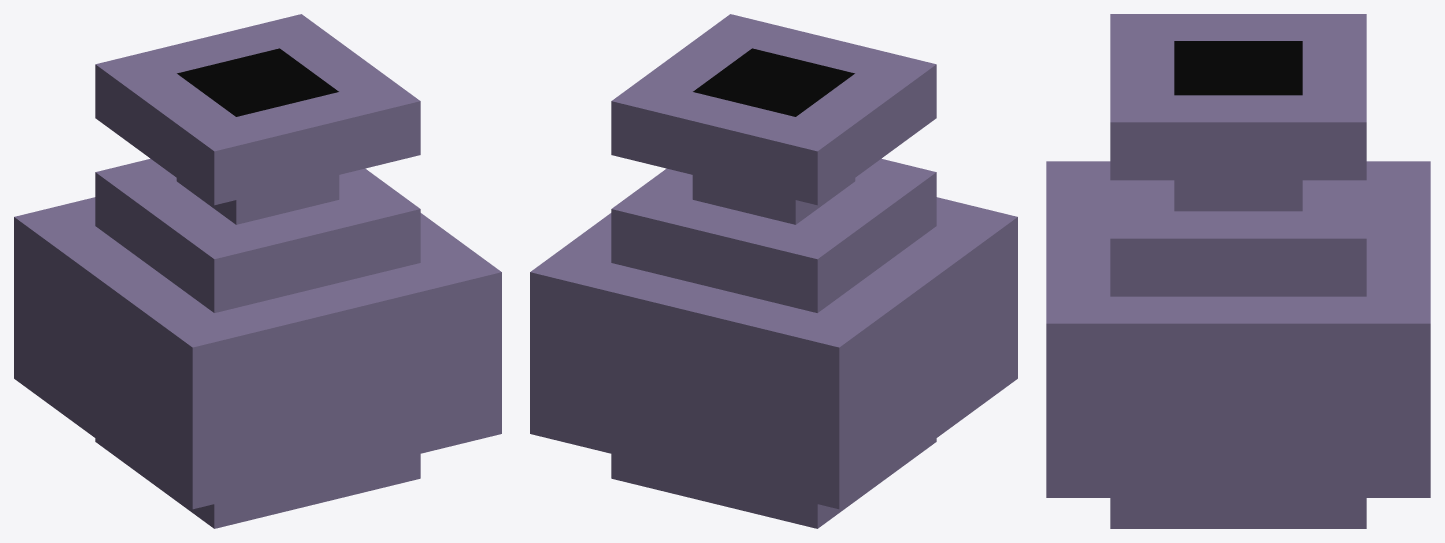
Rendered from pot_d.obj.
3 renders of one model, left to right at view 1: azimuth 30°, elevation 25°; view 2: azimuth 150°, elevation 25°; view 3: azimuth 270°, elevation 25°, orthographic. The views are drawn at different scales.
Size of the model in its own units: 0.6 by 0.7 by 0.6.
Materials: 1 (1 with a texture image).
